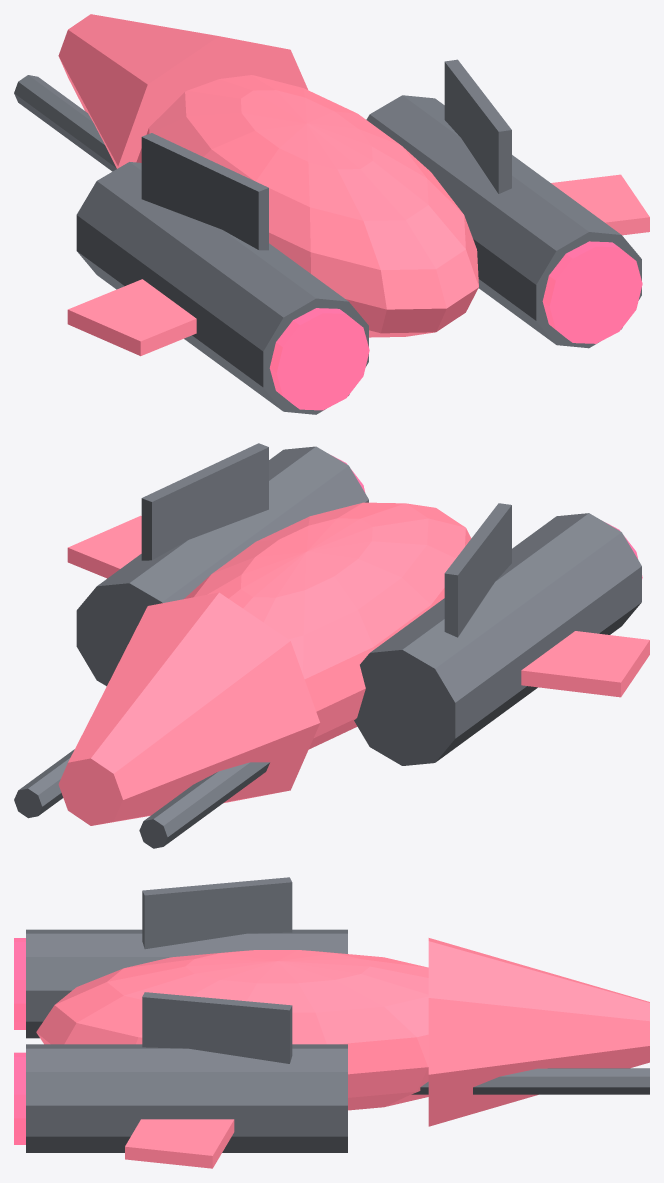
The model's file is enemy_gunship.glb.
3 renders of one model, top to bottom at view 1: azimuth 30°, elevation 25°; view 2: azimuth 150°, elevation 25°; view 3: azimuth 270°, elevation 25°, orthographic. The views are drawn at different scales.
Parts seen in each view (by area): view 1: Gunship, GsGlowObj; view 2: Gunship; view 3: Gunship, GsGlowObj.
Boxes of the visible parts, x1,y1,x2,y2 form: Gunship: (14,14,649,414); GsGlowObj: (269,241,642,410); Gunship: (14,443,649,848); Gunship: (26,877,649,1168); GsGlowObj: (14,938,25,1144).
Bounding box in the file's own units: 5.47 × 2 × 6.32.
